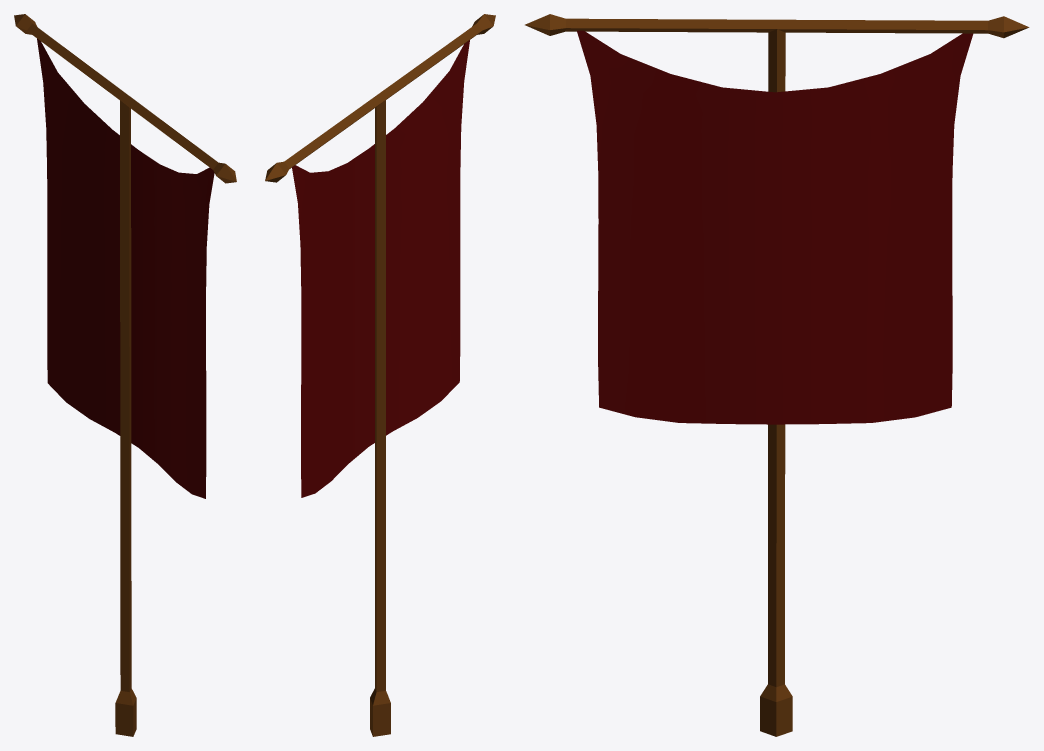
The model's file is red_flag.fbx.
3 renders of one model, left to right at view 1: azimuth 30°, elevation 25°; view 2: azimuth 150°, elevation 25°; view 3: azimuth 270°, elevation 25°, orthographic. The views are drawn at different scales.
Parts seen in each view (by area): view 1: Cloth, Stick; view 2: Cloth, Stick; view 3: Cloth, Stick.
Boxes of the visible parts, x1=… form: Cloth: x1=37, y1=38, x2=214, y2=498; Stick: x1=14, y1=14, x2=236, y2=736; Cloth: x1=292, y1=40, x2=469, y2=497; Stick: x1=265, y1=14, x2=495, y2=736; Cloth: x1=577, y1=30, x2=973, y2=424; Stick: x1=525, y1=14, x2=1029, y2=736.
Size of the model in its own units: 15.13 by 394 by 252.
